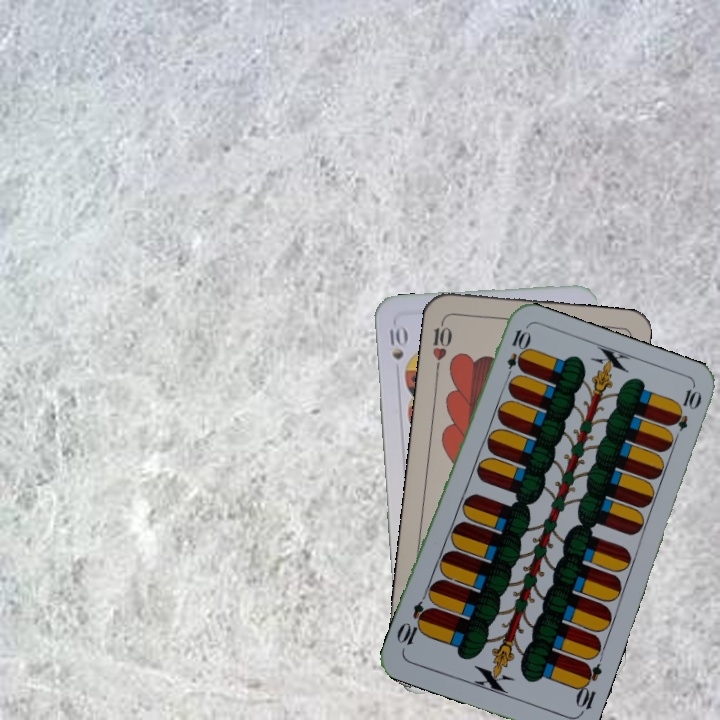E10: (571, 658, 605, 717), (501, 325, 531, 384)
H10: (428, 314, 455, 373)
S10: (386, 321, 408, 363)
